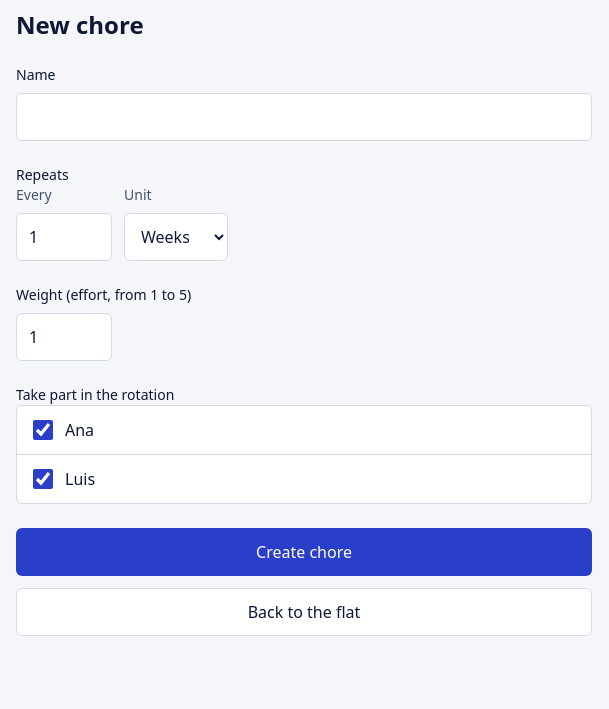
Test: chore editor › shows API field errors next to the field they belong to
Type "Bins" into the field labelled "Name".
click(304, 117); type("Bins")  # box [16, 93, 592, 141]
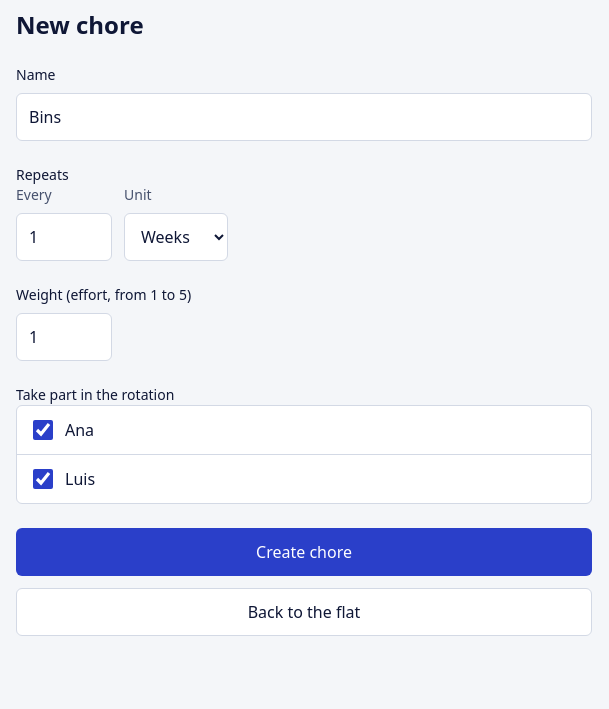
Click the button "Create chore".
click(304, 552)  # box [16, 528, 592, 576]
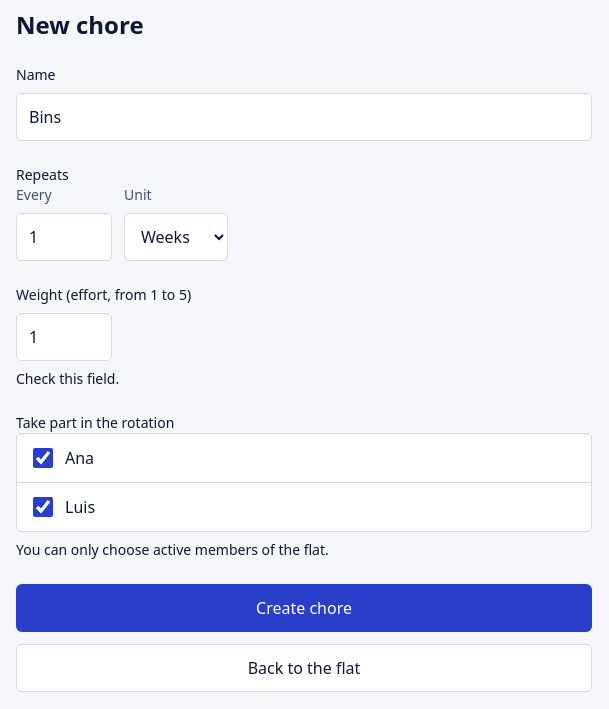
Expected: the text "You can only choose active members of the flat." is shown, [16, 540, 329, 559]
